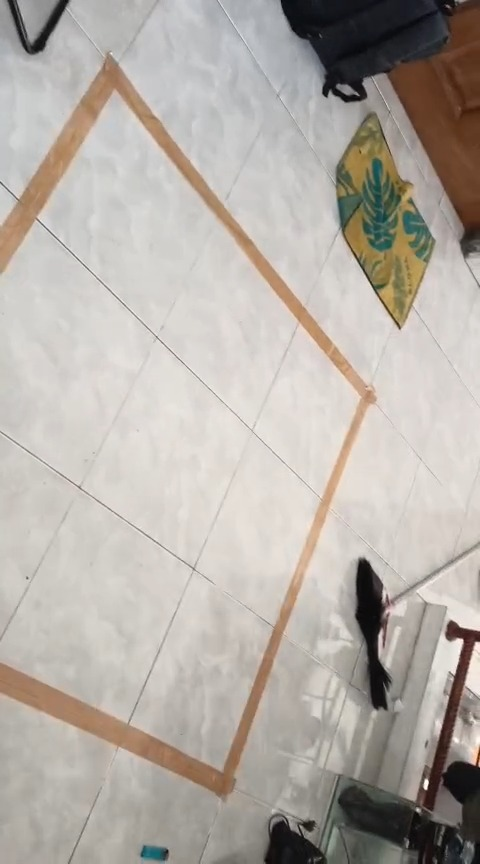floor marking: (0, 58, 375, 796)
